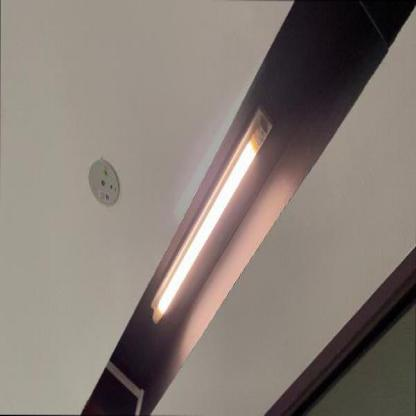light_on: (135, 86, 286, 335)
